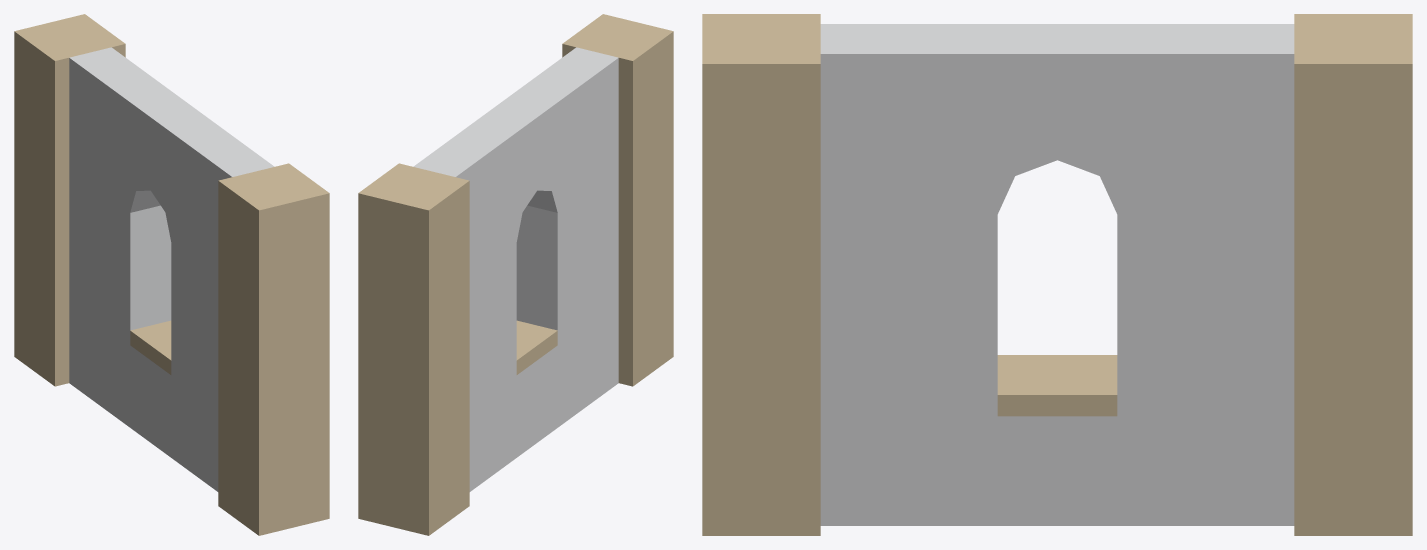
Rendered from Wood_Window_Round_Sill_01.glb.
3 views of the same model, side by side, from view 1: azimuth 30°, elevation 25°; view 2: azimuth 150°, elevation 25°; view 3: azimuth 270°, elevation 25° (orthographic). The views are drawn at different scales.
Visible parts, largest first — view 1: Mesh1 Wood_Window_Round_Sill Model; view 2: Mesh1 Wood_Window_Round_Sill Model; view 3: Mesh1 Wood_Window_Round_Sill Model.
Boxes of the visible parts, <box> form: Mesh1 Wood_Window_Round_Sill Model: <box>14,14,329,535</box>; Mesh1 Wood_Window_Round_Sill Model: <box>358,14,673,535</box>; Mesh1 Wood_Window_Round_Sill Model: <box>702,14,1412,535</box>.
Bounding box in the file's own units: 0.5 × 2.2 × 3.
